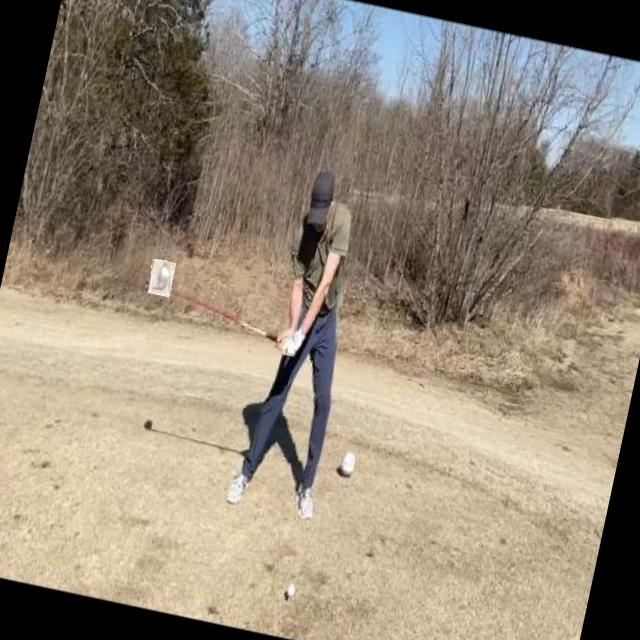club head: (147, 258, 176, 297)
